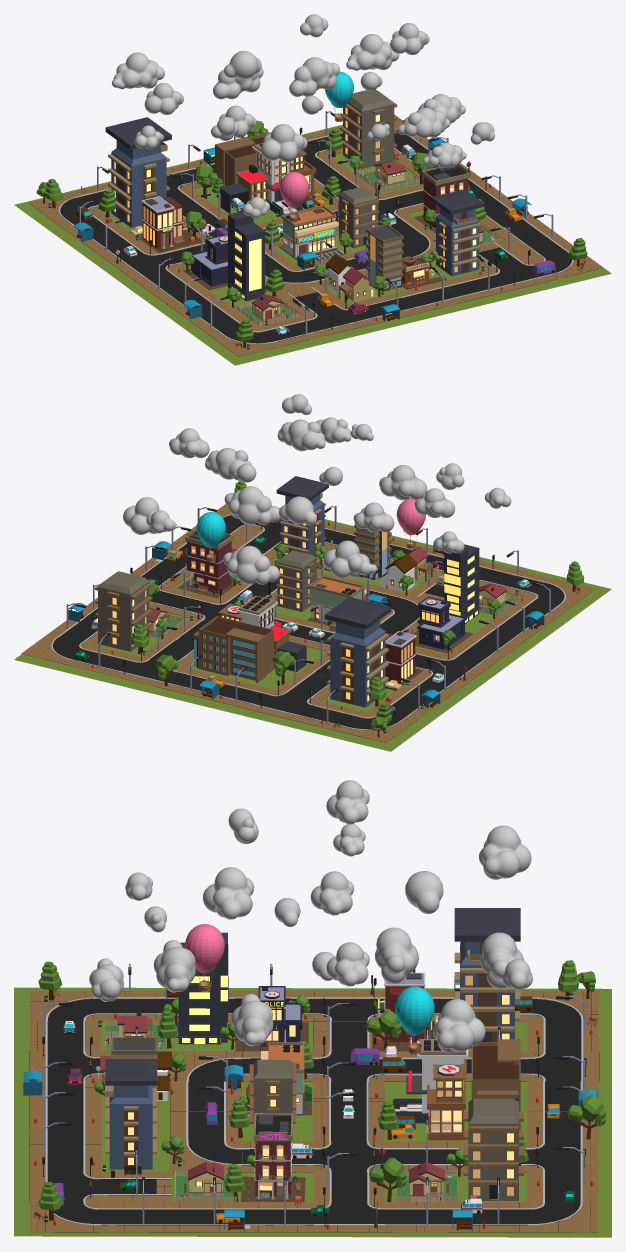
Rendered from Foggy_Morning_City.glb.
The picture shows the model from 3 angles, top to bottom: view 1: azimuth 30°, elevation 25°; view 2: azimuth 150°, elevation 25°; view 3: azimuth 270°, elevation 25°; orthographic projection. The views are drawn at different scales.
Parts seen in each view (by area): view 1: Plane, apartment2.002, apartment2.001, apartment.001, Helipad, Grocery Store, Bank, Large Apartments, apartment, Office, Police Station, Hotel (+57 smaller); view 2: Plane, apartment2.002, apartment.001, Office_2, Hotel, apartment2.001, Police Station, Helipad, apartment, Large Apartments, Cube.009, Bank (+54 smaller); view 3: Plane, apartment2.002, apartment2.001, apartment.001, Helipad, Hotel, Large Apartments, apartment, Road_B.022, Road_B.005, Road_B.021, Road_B.012 (+66 smaller).
Part boxes in pixels (x1,y1,x2,y2): Plane: [14, 124, 611, 365]; apartment2.002: [105, 117, 171, 227]; apartment2.001: [431, 189, 483, 276]; apartment.001: [340, 89, 397, 168]; Helipad: [220, 143, 316, 216]; Grocery Store: [278, 205, 344, 262]; Bank: [130, 196, 203, 252]; Large Apartments: [226, 211, 266, 300]; apartment: [337, 186, 379, 248]; Office: [366, 224, 403, 291]; Police Station: [182, 233, 227, 290]; Hotel: [414, 163, 469, 233]; Plane: [14, 508, 611, 751]; apartment2.002: [324, 597, 391, 707]; apartment.001: [95, 571, 152, 651]; Office_2: [193, 616, 273, 683]; Hotel: [177, 527, 238, 598]; apartment2.001: [276, 476, 328, 557]; Police Station: [413, 596, 473, 653]; Helipad: [218, 595, 306, 671]; apartment: [276, 550, 317, 611]; Large Apartments: [443, 544, 480, 623]; Cube.009: [192, 619, 269, 678]; Bank: [385, 631, 422, 691]; Plane: [14, 987, 611, 1237]; apartment2.002: [454, 908, 520, 1048]; apartment2.001: [105, 1059, 156, 1169]; apartment.001: [463, 1098, 523, 1200]; Helipad: [393, 1039, 468, 1140]; Hotel: [241, 1113, 305, 1201]; Large Apartments: [176, 932, 229, 1044]; apartment: [249, 1059, 296, 1129]; Road_B.022: [29, 1122, 101, 1171]; Road_B.005: [527, 996, 598, 1051]; Road_B.021: [29, 1092, 101, 1141]; Road_B.012: [100, 1177, 171, 1232].
Bounding box in the file's own units: 20.19 × 9.16 × 20.5.
79 materials, 10 textured.
